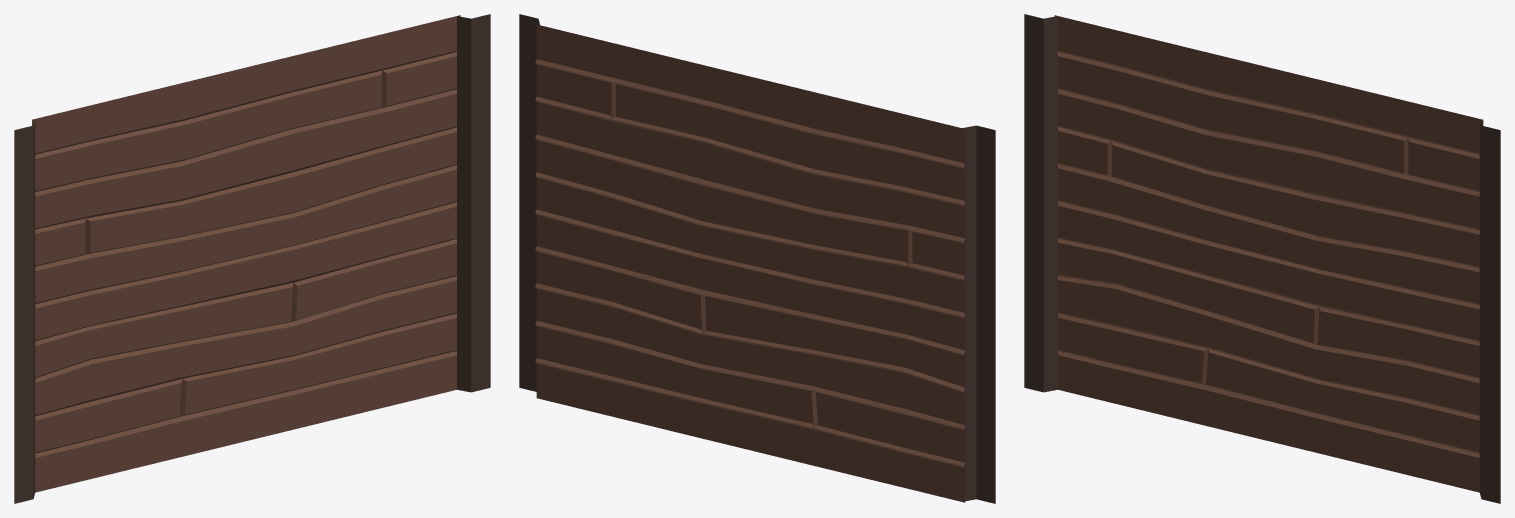
Rendered from LPHorror_4MWallA.fbx.
The picture shows the model from 3 angles, left to right: view 1: azimuth 30°, elevation 25°; view 2: azimuth 150°, elevation 25°; view 3: azimuth 330°, elevation 25°; orthographic projection.
Parts seen in each view (by area): view 1: 4MWallA; view 2: 4MWallA; view 3: 4MWallA.
Part boxes in pixels (left/top/right/bottom): 4MWallA: left=14, top=14, right=490, bottom=503; 4MWallA: left=519, top=14, right=995, bottom=503; 4MWallA: left=1024, top=14, right=1500, bottom=503.
Bounding box in the file's own units: 400 × 300 × 11.51.
